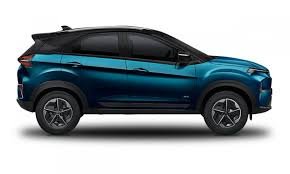Tata Nexon: (16, 25, 273, 138)
